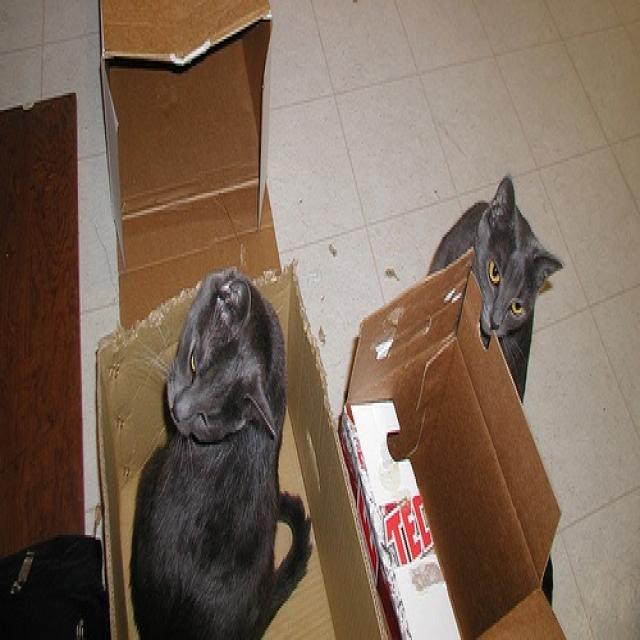cat: (128, 264, 312, 637), (426, 176, 563, 403)
